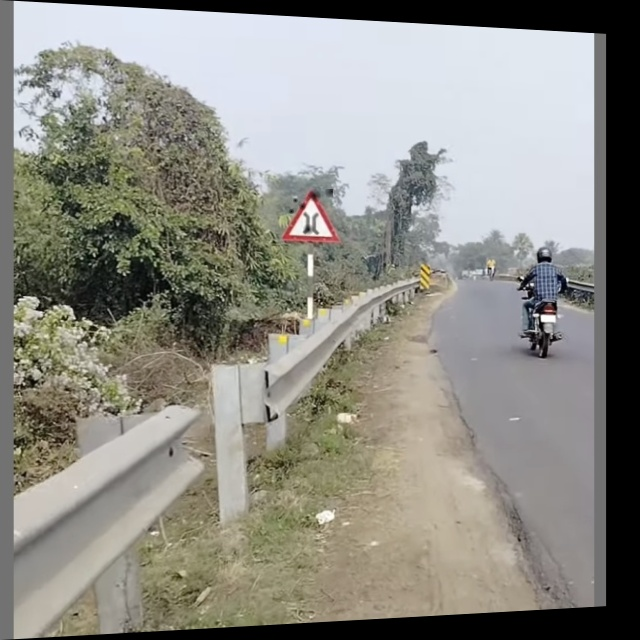Narrow_Bridge: (284, 189, 333, 240)
